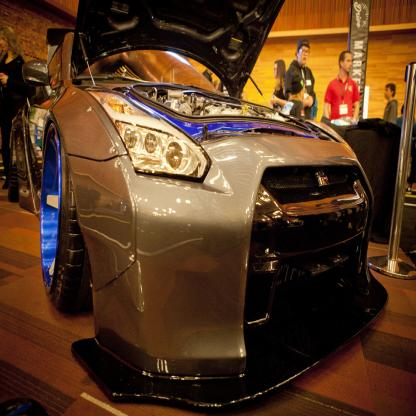Car: (9, 1, 390, 414)
